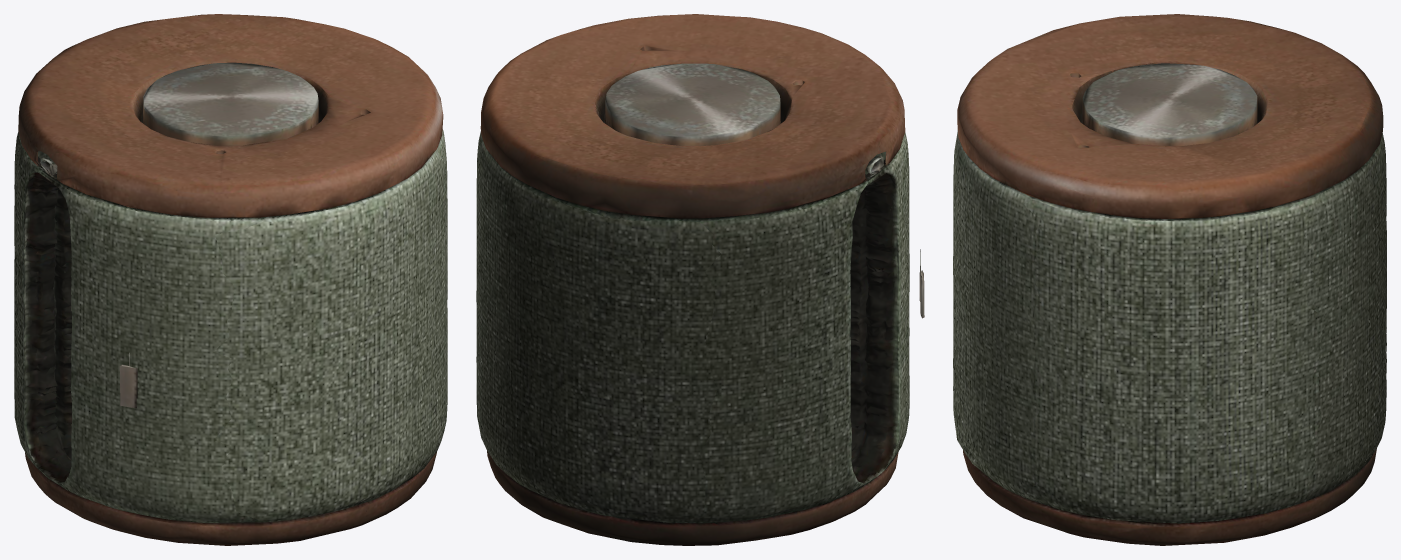
Rendered from speaker.glb.
3 views of the same model, side by side, from view 1: azimuth 30°, elevation 25°; view 2: azimuth 150°, elevation 25°; view 3: azimuth 270°, elevation 25° (orthographic).
Visible parts, largest first — view 1: model; view 2: model; view 3: model.
Boxes of the visible parts, left/top/right/bottom form: model: left=14, top=14, right=447, bottom=545; model: left=476, top=14, right=924, bottom=545; model: left=953, top=14, right=1386, bottom=545.
Size of the model in its own units: 0.9693 by 0.9108 by 0.9802.
1 material, 1 textured.
